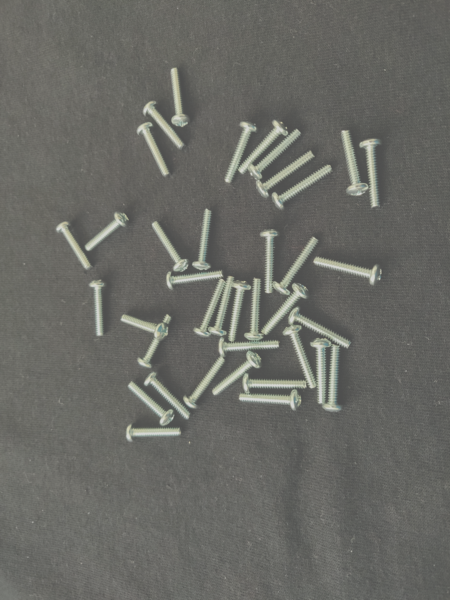longscrew: (269, 163, 335, 213), (253, 151, 318, 200), (247, 129, 304, 183), (237, 119, 290, 176), (272, 237, 323, 296), (287, 308, 355, 351), (260, 281, 309, 338), (282, 323, 319, 392), (142, 99, 189, 152), (184, 354, 227, 411), (143, 372, 193, 421), (222, 119, 258, 187), (126, 381, 178, 427), (314, 254, 386, 286), (82, 209, 132, 255), (212, 353, 264, 397), (135, 121, 173, 181), (339, 127, 370, 199), (152, 220, 193, 274), (137, 312, 174, 369), (56, 220, 94, 273), (194, 279, 227, 339), (206, 274, 236, 339), (359, 137, 385, 210), (226, 278, 252, 346), (322, 342, 346, 415), (309, 336, 333, 406), (168, 65, 193, 127), (165, 268, 226, 293), (259, 228, 281, 297), (242, 372, 310, 394), (243, 280, 267, 342), (238, 390, 304, 412), (193, 205, 214, 273), (119, 313, 169, 340), (216, 337, 280, 358), (89, 277, 110, 340), (125, 422, 184, 442)
